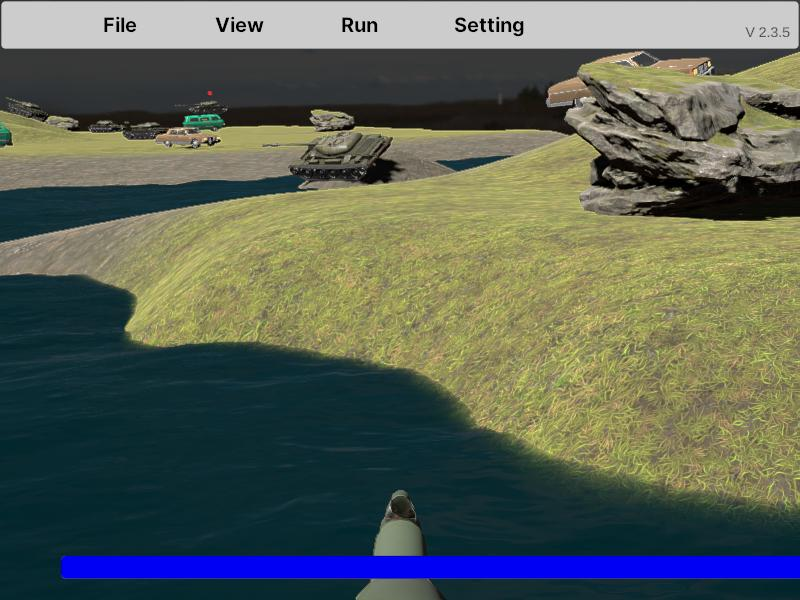Tank: (261, 132, 394, 182)
car: (155, 128, 221, 149), (182, 115, 224, 131), (0, 117, 13, 150)
